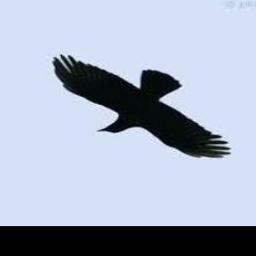Crow: (51, 54, 231, 158)
